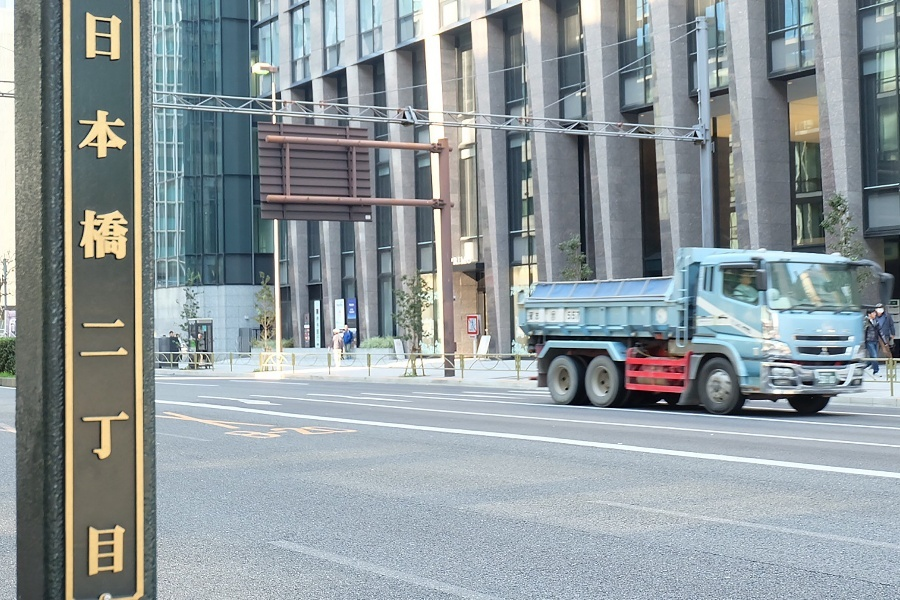text: (81, 12, 96, 579), (97, 12, 112, 579), (113, 12, 128, 579), (78, 12, 80, 579), (129, 12, 130, 579), (316, 309, 320, 347), (566, 312, 576, 320), (348, 304, 352, 314), (577, 312, 580, 320), (353, 304, 355, 314)
